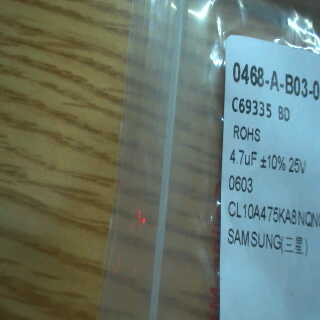4.7uF: (227, 148, 259, 167)
